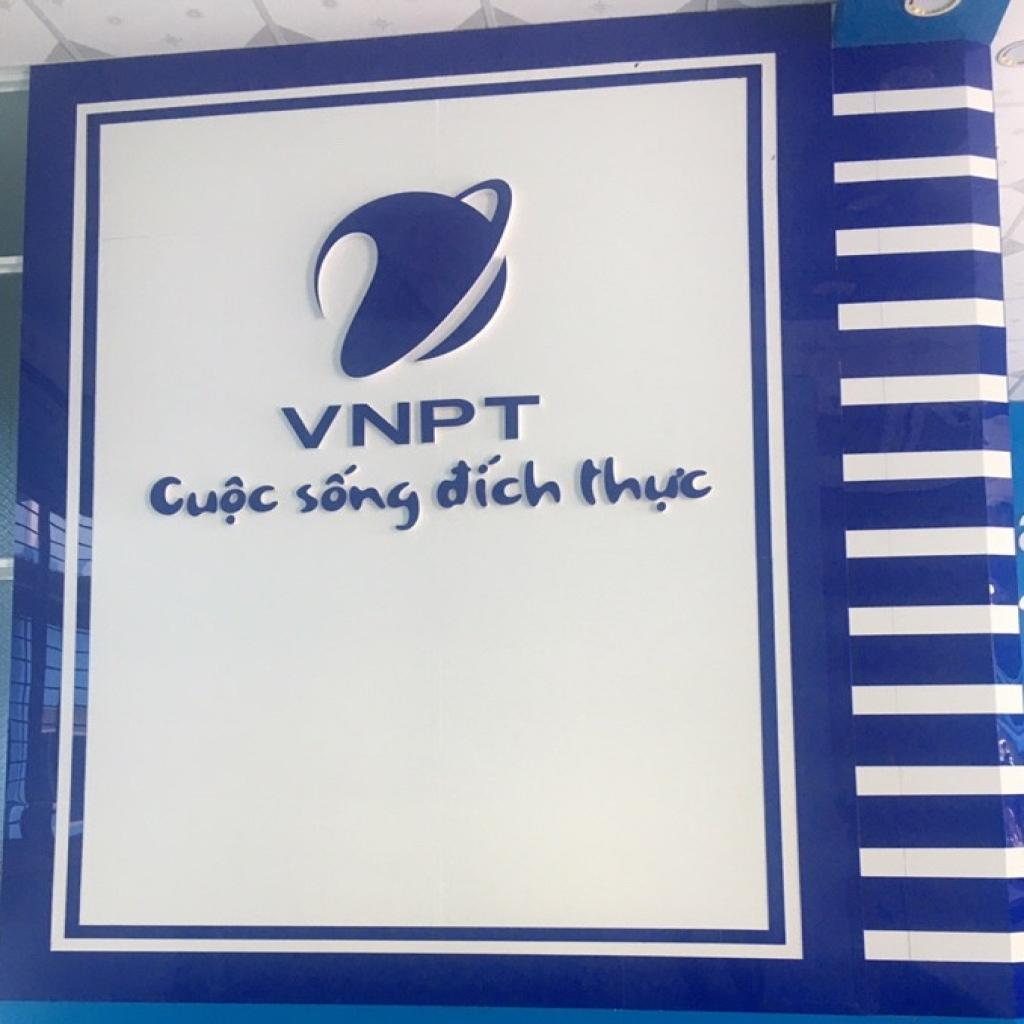text: (273, 391, 544, 452), (290, 464, 424, 538), (430, 451, 566, 515), (145, 473, 282, 529)
